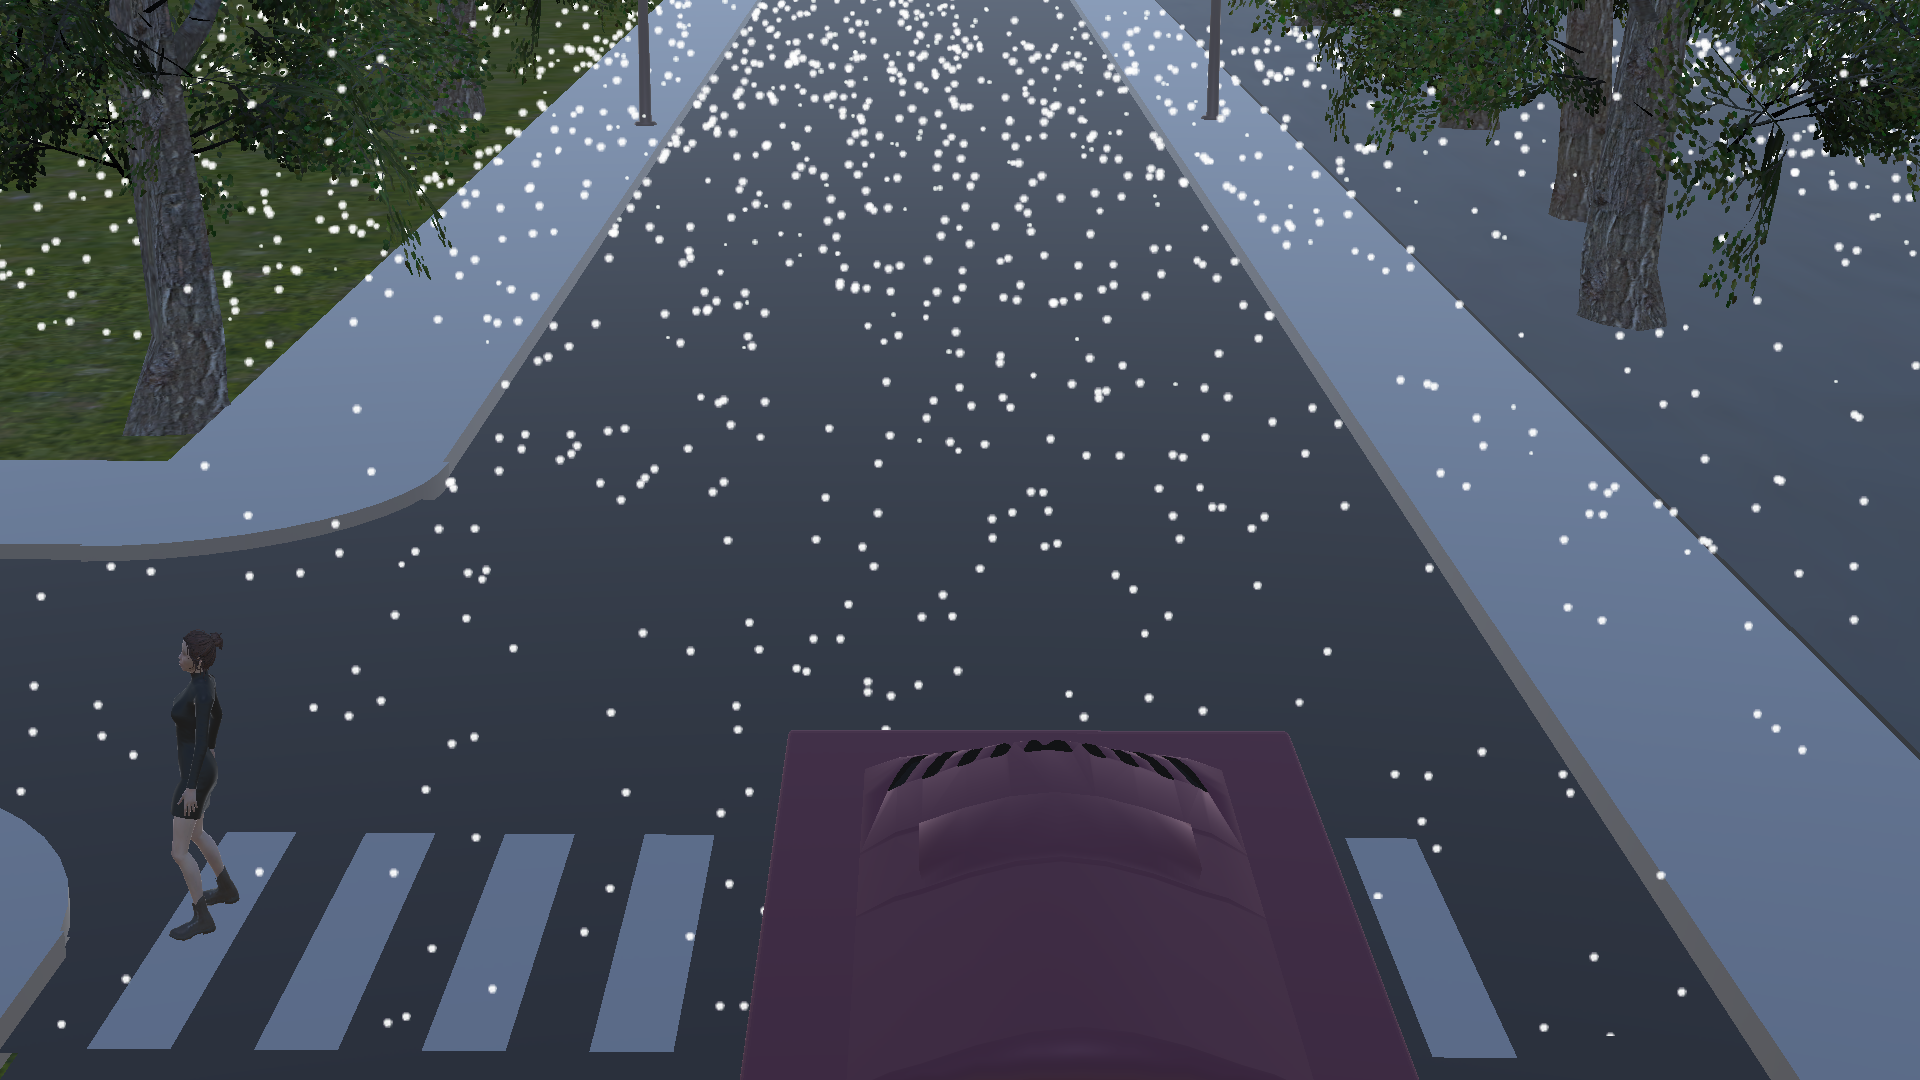pedestrian: (134, 621, 254, 958)
